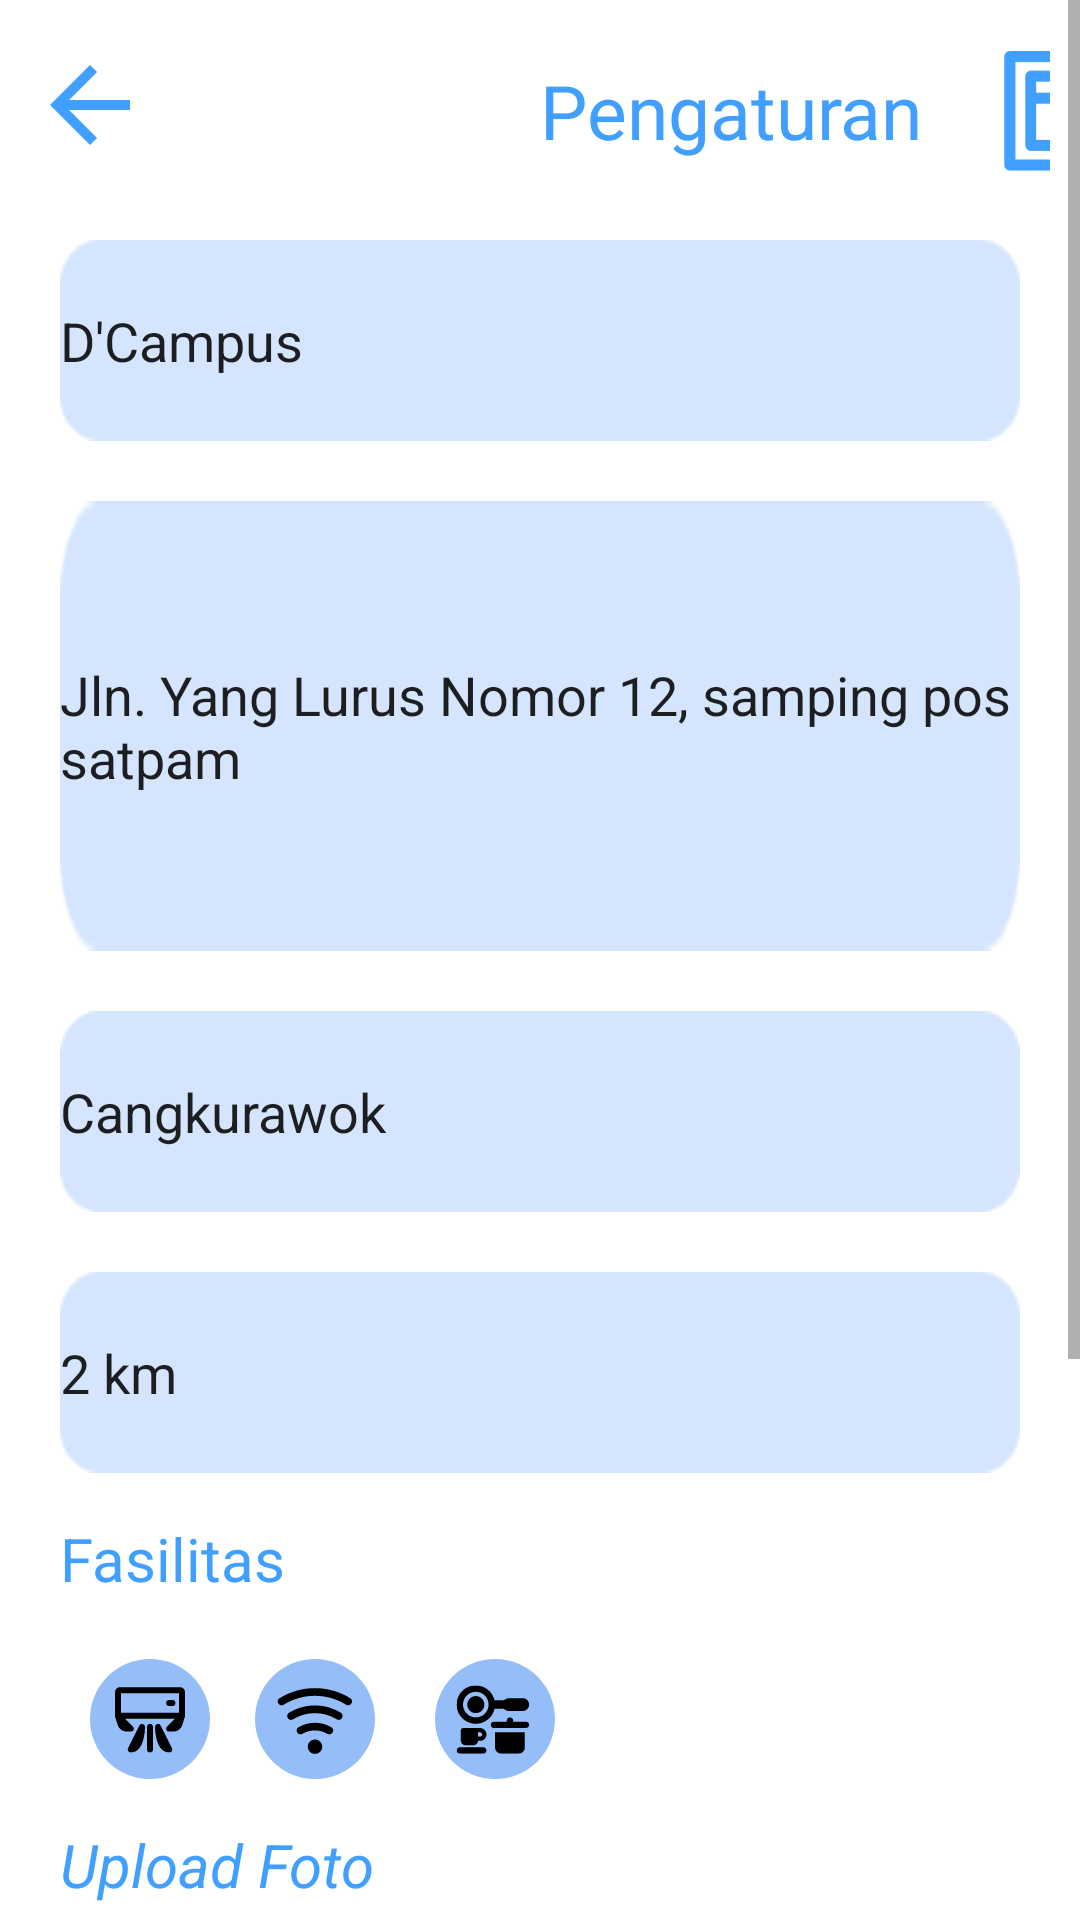

Icon bounding boxes for this 1080 x 1920 phone screenshot, format (x1, y1, x2, y2):
arrow back: (50, 65, 130, 145)
dapur: (435, 1659, 555, 1779)
wifi: (255, 1659, 375, 1779)
